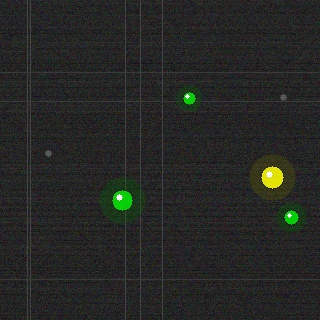green_normal: (110, 188, 134, 212), (282, 208, 300, 226), (181, 90, 197, 106)
yellow_warning: (259, 164, 285, 190)
